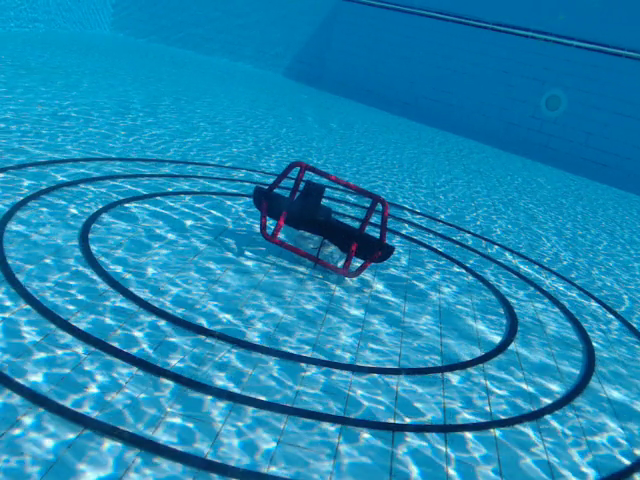submarine: (250, 160, 399, 280)
